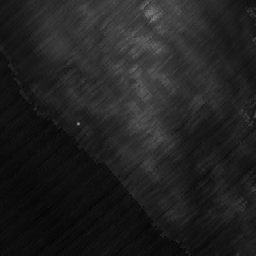Target: (74, 120, 81, 126)
